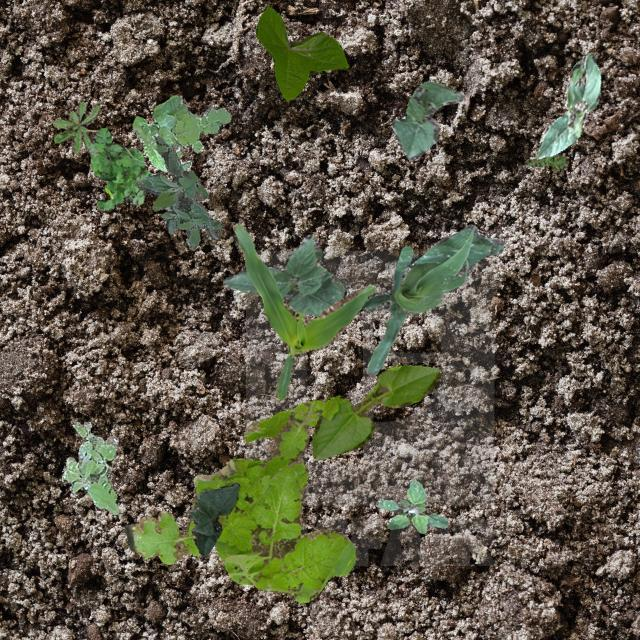crop: (232, 222, 374, 400), (362, 224, 503, 376), (310, 364, 440, 458), (222, 233, 344, 314), (255, 5, 348, 100), (534, 52, 600, 158), (391, 80, 464, 158), (186, 482, 238, 554)
weed: (123, 398, 354, 602), (134, 134, 220, 248), (132, 94, 228, 170), (61, 421, 118, 514), (90, 126, 150, 210), (374, 480, 448, 532), (52, 100, 98, 156), (524, 154, 566, 172)
